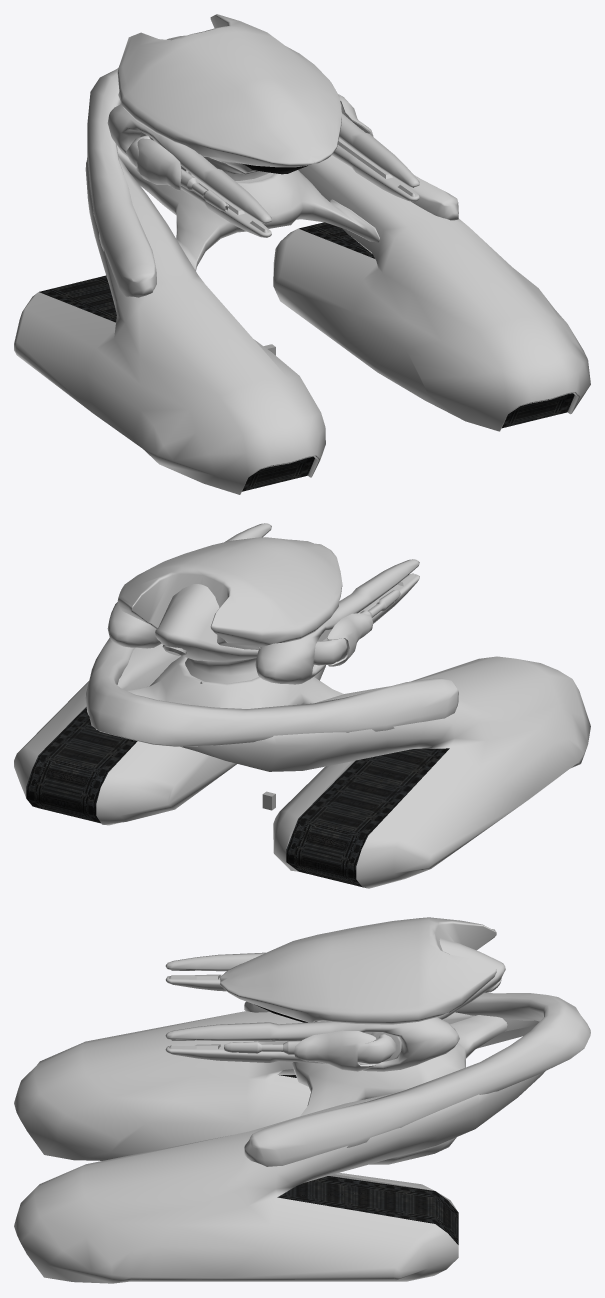
File: fvtitan_skel.fbx
3 views of the same model, one above another, from view 1: azimuth 30°, elevation 25°; view 2: azimuth 150°, elevation 25°; view 3: azimuth 270°, elevation 25° (orthographic). The views are drawn at different scales.
Visible parts, largest first — view 1: tread_l, tread_r, head, Shoulder, main_body, recoil_2, recoil_3, tractor_r, tractor_l, gun_guard, recoil_1; view 2: tread_r, head, Shoulder, tread_l, tractor_r, tractor_l, turret_x, main_body, recoil_2, recoil_3, gun_guard, recoil_1; view 3: tread_l, tread_r, head, Shoulder, recoil_3, main_body, tractor_l, gun_guard, recoil_2, recoil_4, turret_x.
Part boxes in pixels (box(x1,y1,x2,y2)): tread_l: box(273, 155, 590, 431); tread_r: box(14, 155, 325, 494); head: box(117, 14, 341, 172); Shoulder: box(87, 68, 458, 297); main_body: box(117, 145, 379, 270); recoil_2: box(107, 104, 271, 237); recoil_3: box(332, 113, 419, 201); tractor_r: box(39, 275, 314, 491); tractor_l: box(299, 222, 574, 428); gun_guard: box(136, 138, 181, 190); recoil_1: box(126, 135, 228, 211); tread_r: box(180, 656, 590, 888); head: box(117, 537, 342, 649); Shoulder: box(87, 637, 458, 746); tread_l: box(14, 643, 325, 825); tractor_r: box(286, 748, 449, 887); tractor_l: box(26, 707, 137, 823); turret_x: box(155, 584, 258, 683); main_body: box(127, 656, 343, 708); recoil_2: box(255, 559, 419, 684); recoil_3: box(107, 523, 271, 648); gun_guard: box(327, 613, 373, 666); recoil_1: box(313, 589, 400, 665); tread_l: box(14, 1071, 545, 1283); tread_r: box(14, 1011, 539, 1164); head: box(220, 917, 496, 1024); Shoulder: box(244, 993, 590, 1166); recoil_3: box(165, 1017, 459, 1071); main_body: box(292, 1015, 507, 1116); tractor_l: box(277, 1176, 458, 1244); gun_guard: box(294, 1030, 376, 1071); recoil_2: box(165, 952, 265, 991); recoil_4: box(224, 1034, 397, 1064); turret_x: box(437, 938, 505, 1019).
Bounding box in the file's own units: 10.27 × 6.39 × 12.18.
